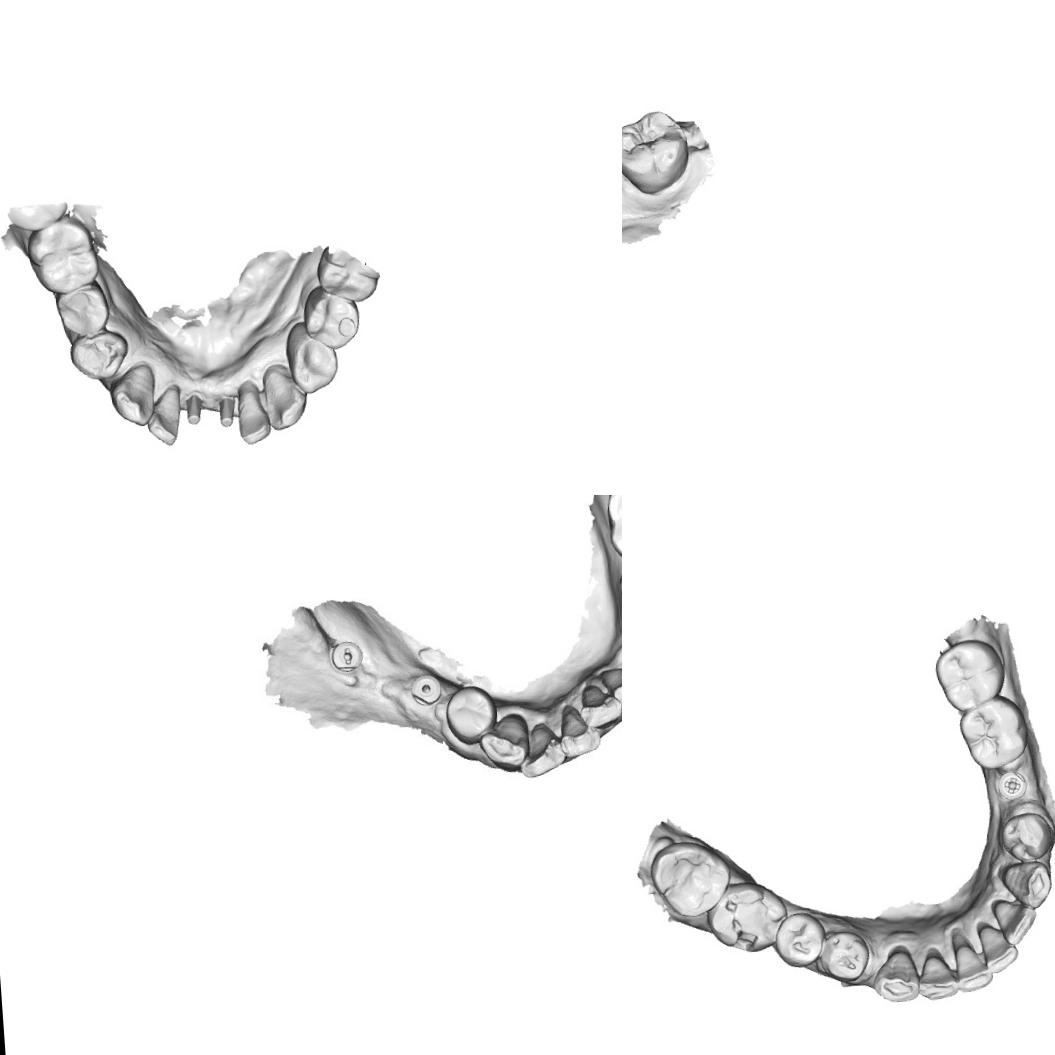abutment: (182, 392, 207, 426), (214, 393, 238, 428)
canine: (260, 360, 310, 432), (106, 362, 158, 428), (996, 858, 1053, 911), (870, 948, 920, 1004), (480, 716, 529, 772)
implant: (404, 673, 442, 706)
implant_minus: (325, 632, 365, 680)
implant_plus: (994, 768, 1028, 800)
incisor: (558, 701, 602, 762), (234, 376, 272, 446), (143, 382, 184, 446), (990, 895, 1038, 946), (951, 938, 994, 994), (975, 918, 1019, 972), (520, 723, 563, 776), (915, 951, 959, 1001), (582, 683, 622, 731), (600, 659, 622, 705)
molar: (702, 877, 790, 955), (622, 105, 692, 197), (23, 214, 101, 296), (646, 838, 724, 920), (956, 691, 1030, 772), (932, 636, 1007, 713), (313, 238, 381, 305)
premolar: (282, 318, 341, 396), (300, 280, 362, 350), (66, 327, 130, 383), (53, 278, 110, 338), (772, 910, 827, 968), (998, 810, 1055, 864), (817, 928, 871, 984), (446, 687, 490, 740)
